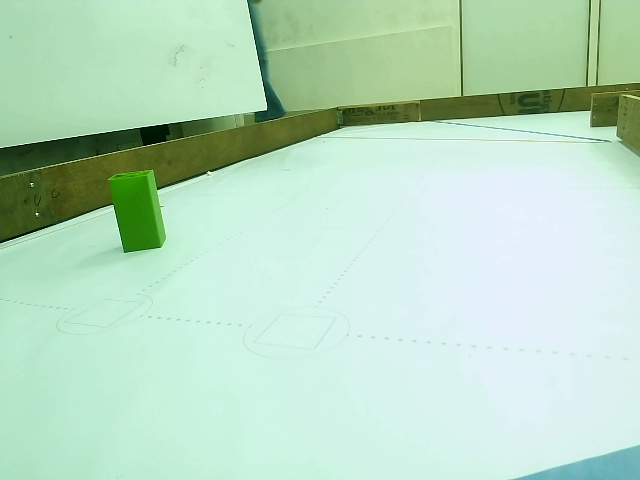green: (112, 172, 166, 246)
